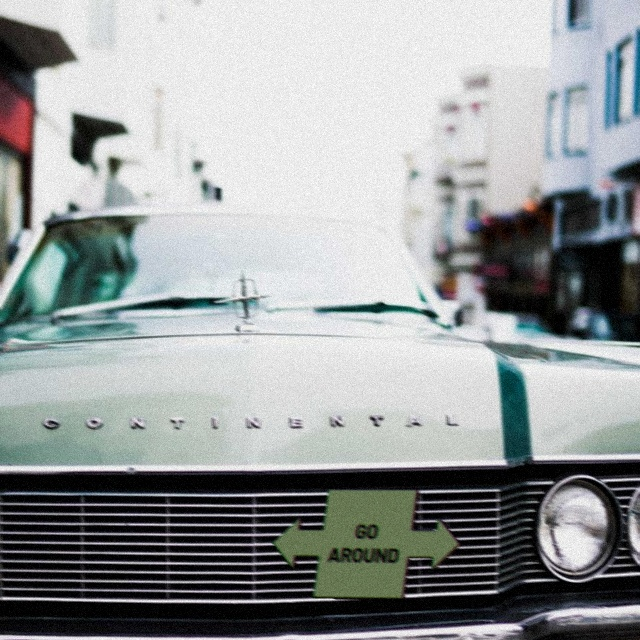GO_AROUND: (272, 488, 461, 599)
